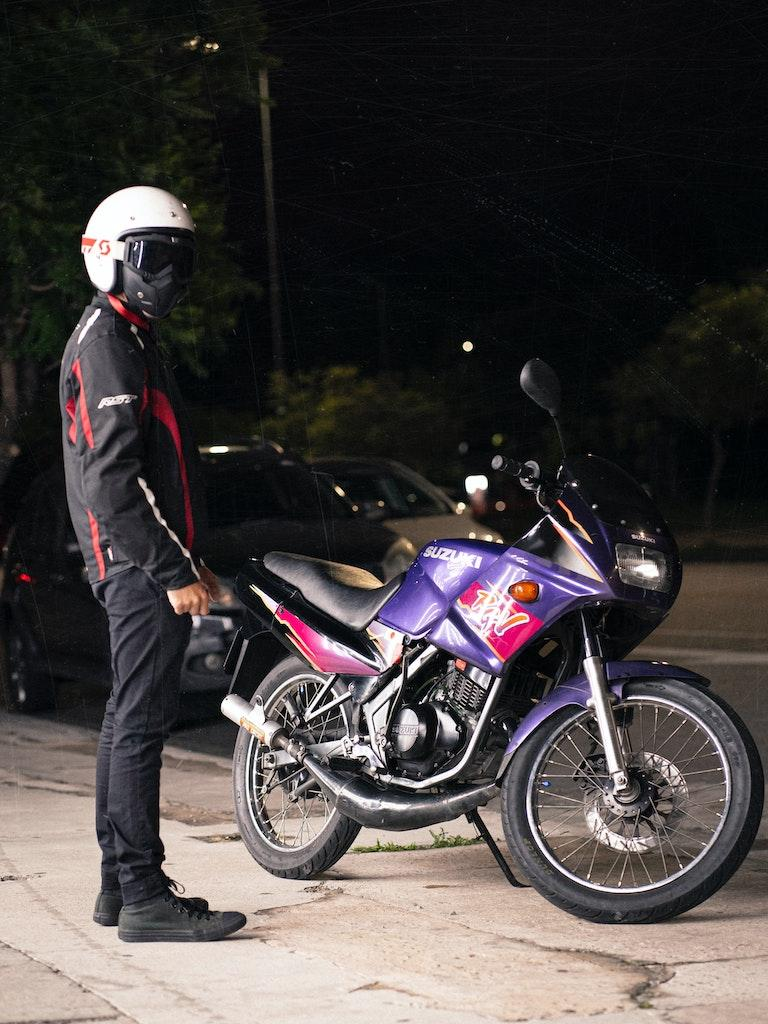helmet: (80, 183, 199, 322)
